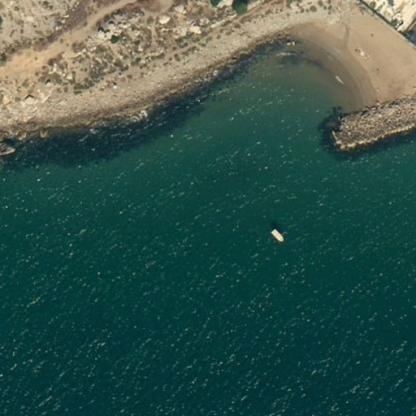ship: (262, 222, 292, 245)
